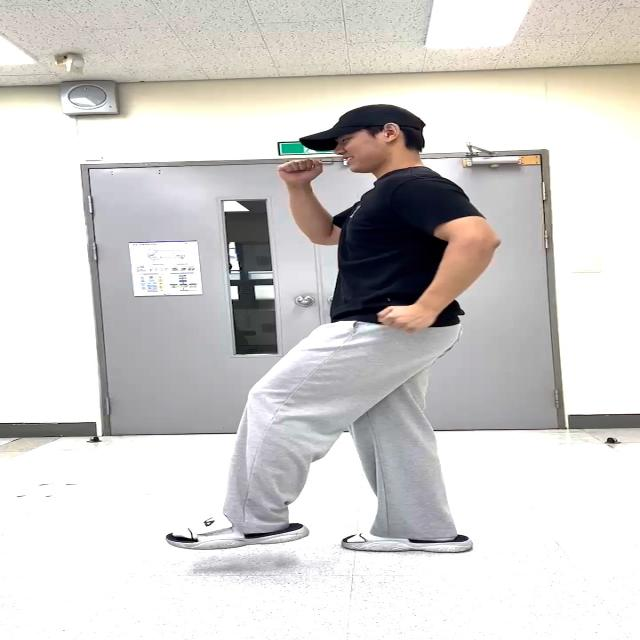leg: (138, 323, 401, 574)
